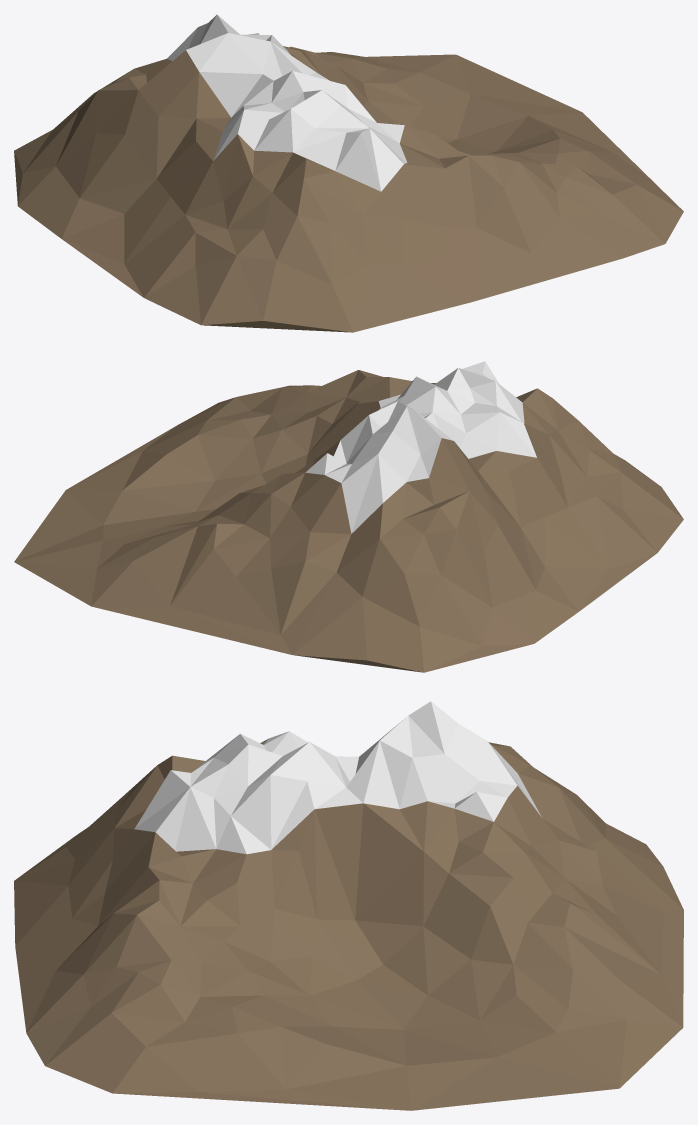
The model's file is Mountain01.fbx.
3 views of the same model, one above another, from view 1: azimuth 30°, elevation 25°; view 2: azimuth 150°, elevation 25°; view 3: azimuth 270°, elevation 25° (orthographic). The views are drawn at different scales.
Visible parts, largest first — view 1: Mountain01; view 2: Mountain01; view 3: Mountain01.
Part boxes in pixels (box(x1,y1,x2,y2)): Mountain01: box(14, 14, 683, 332); Mountain01: box(14, 361, 683, 672); Mountain01: box(14, 701, 683, 1110).
Size of the model in its own units: 1.96 by 0.6393 by 1.87.
